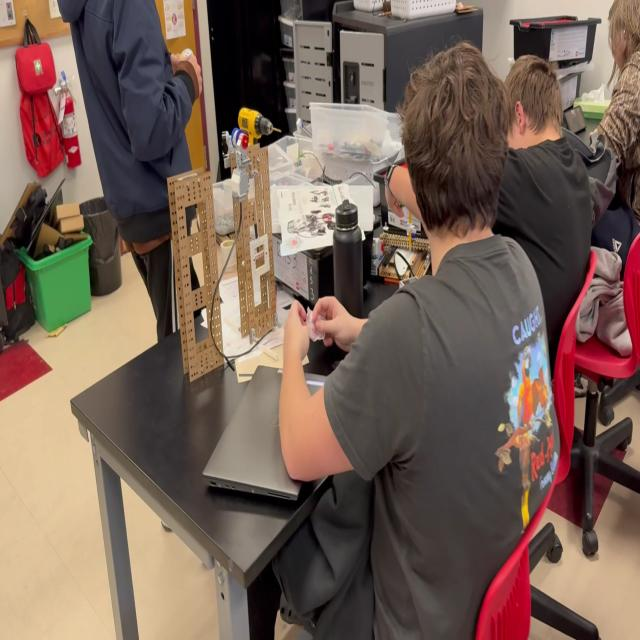pen: (563, 105, 587, 134)
